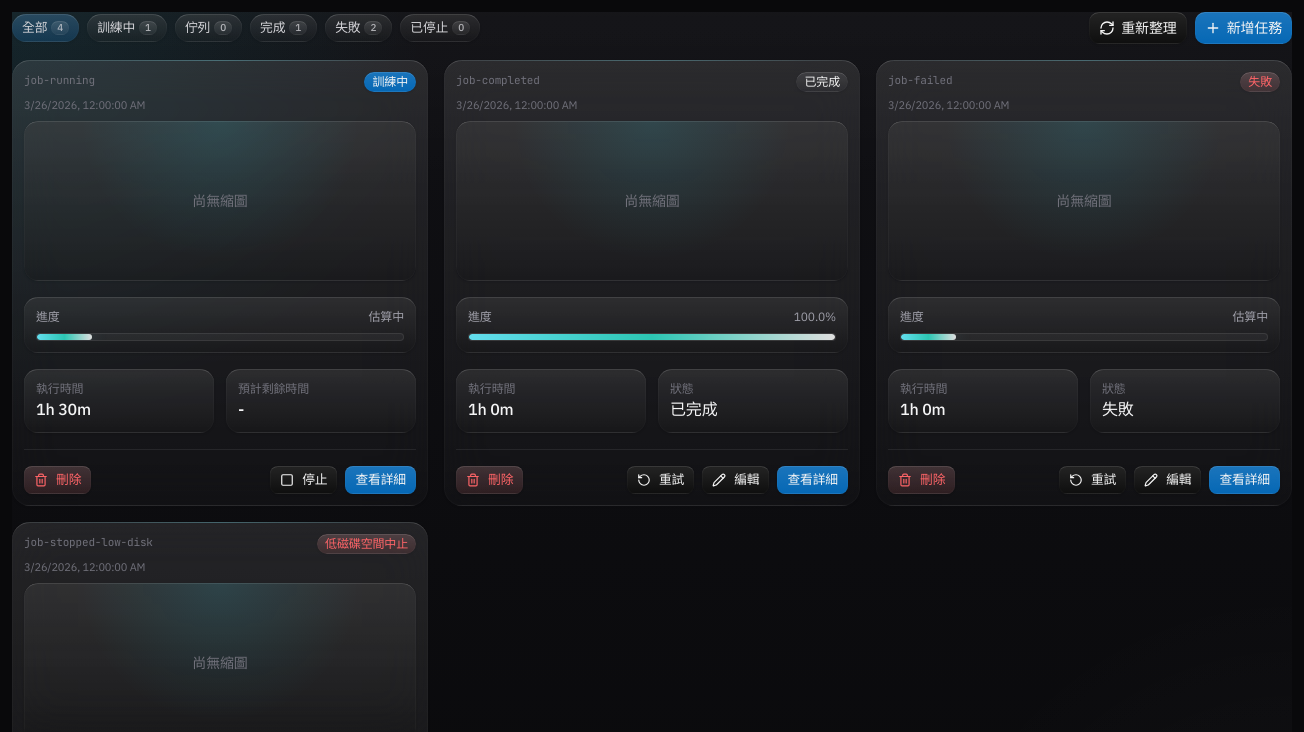
Test case: TaskList › filters cards by selected status
Click the button "完成 1".
click(284, 28)  # box 250,14 -> 317,42
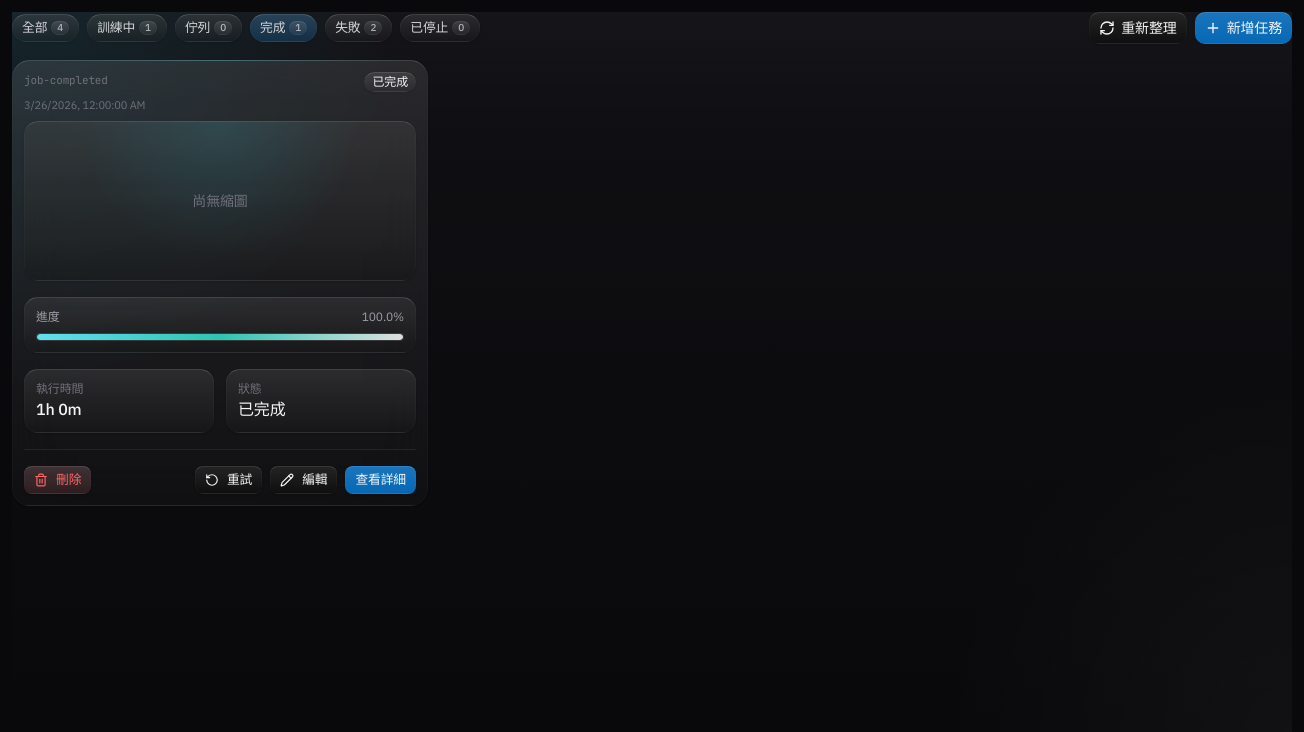
Expected: the text "job-completed" is shown, 24,73 -> 108,87
Expected: the text "job-running" is gone
Click the button "失敗 2".
click(359, 28)  # box 325,14 -> 392,42
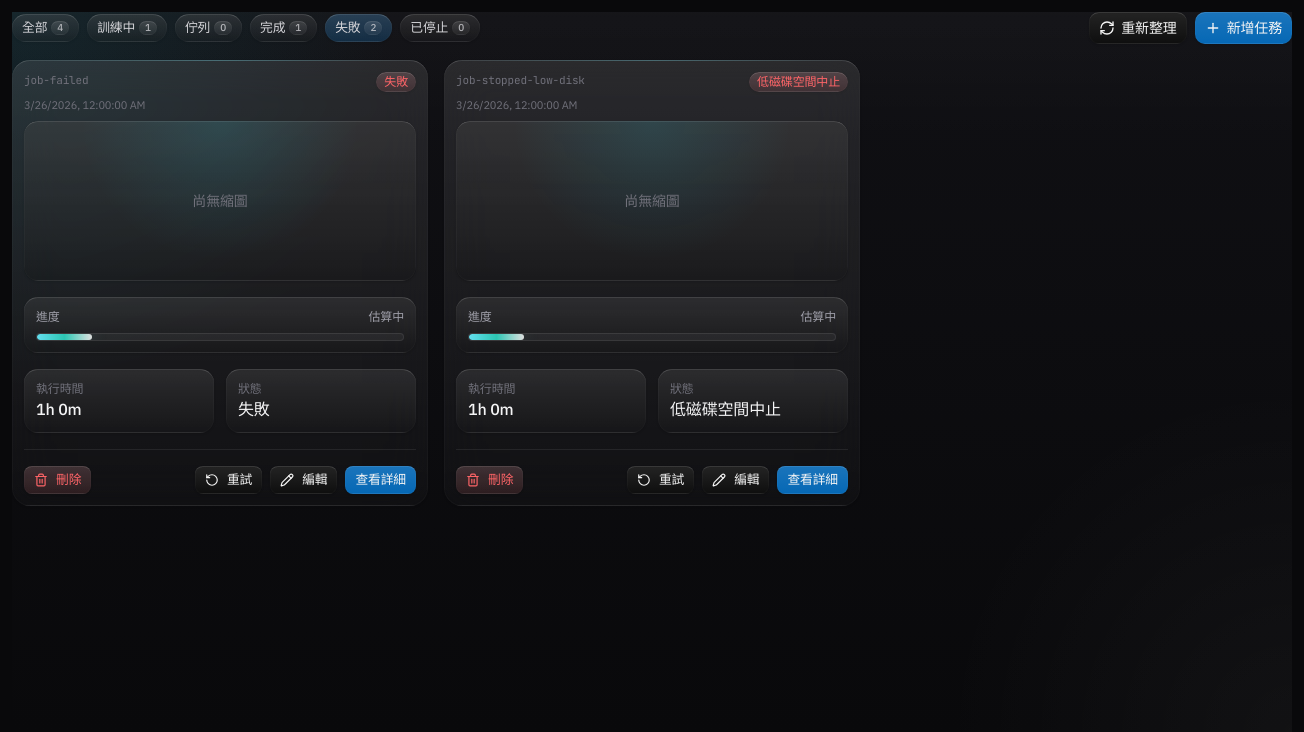
Expected: the text "job-failed" is shown, 24,73 -> 88,87
Expected: the text "job-stopped-low-disk" is shown, 456,72 -> 585,88
Expected: the text "job-completed" is gone
